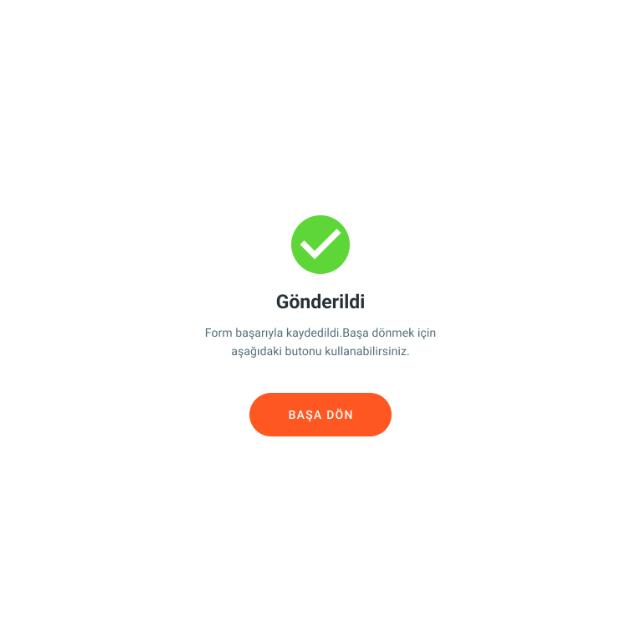QLabel: (204, 326, 436, 358), (274, 290, 364, 310), (286, 408, 354, 420)
VBtn: (250, 392, 394, 436)
VIcon: (288, 214, 352, 276)
